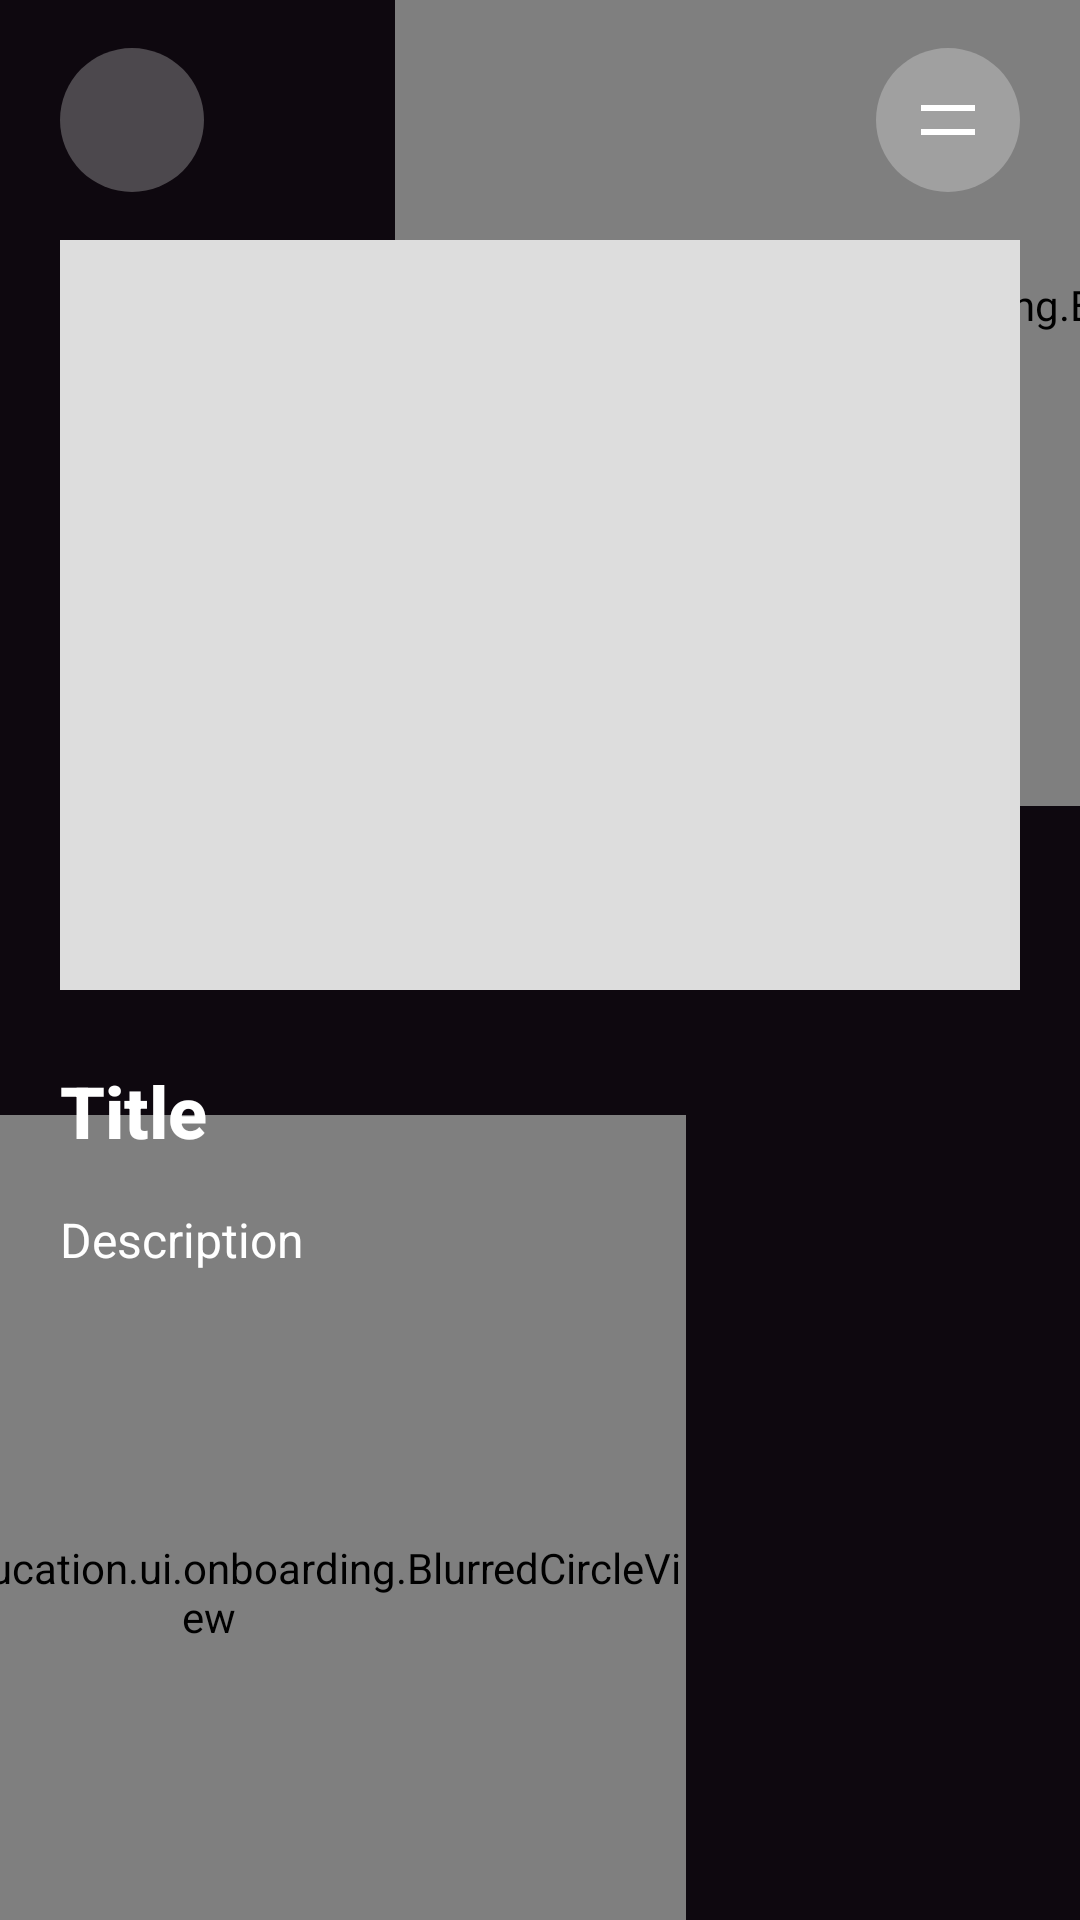

Locate icon controls on the screen. Image size 1080x1920, boxes as (x1, y1, x2, y2).
Menu: (876, 48, 1020, 192)
